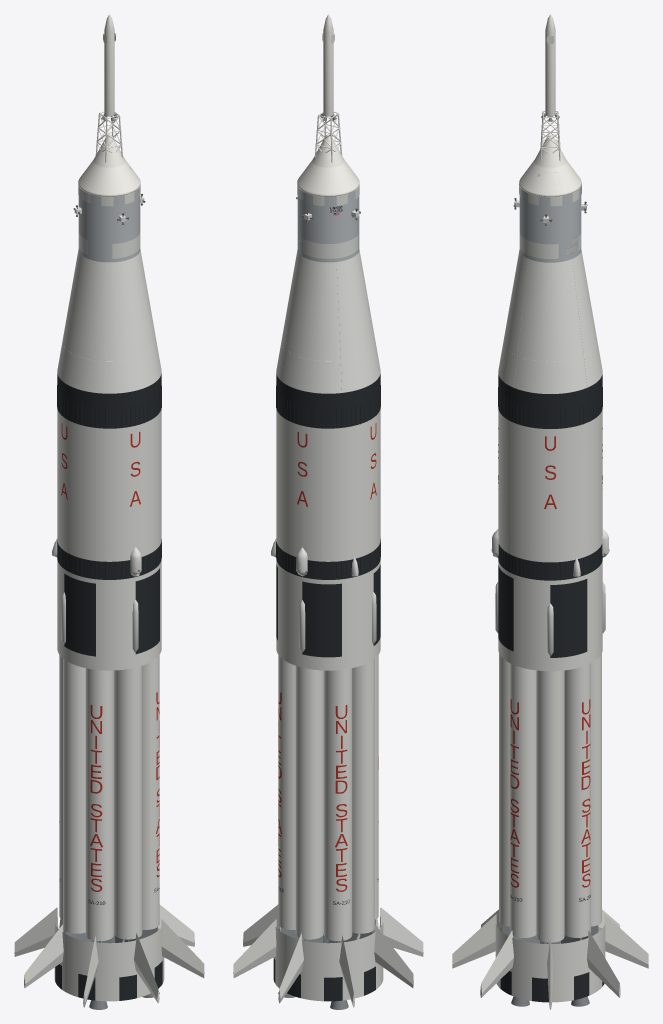
File: vehicle.glb
The picture shows the model from 3 angles, left to right: view 1: azimuth 30°, elevation 25°; view 2: azimuth 150°, elevation 25°; view 3: azimuth 270°, elevation 25°; orthographic projection.
Visible parts, largest first — view 1: SIVB_Skin_0, SIB_OuterTank_6, SIB_OuterTank_5, SIB_Fin_0, SIB_OuterTank_4, SLA_PetalSkin_3, SIB_OuterTank_7, Interstage_Skin_0, SIVB_Skin_1, Interstage_Skin_1, SLA_AftSkin_0, SM_BarrelRims (+12 smaller); view 2: SIVB_Skin_0, SIB_OuterTank_2, SIB_OuterTank_3, SIB_Fin_0, SIB_OuterTank_4, Interstage_Skin_0, SLA_PetalSkin_1, SIB_OuterTank_1, SIVB_Skin_1, SLA_AftSkin_0, Interstage_Skin_1, SLA_PetalSkin_2 (+12 smaller); view 3: SIVB_Skin_0, SIB_OuterTank_0, SIB_OuterTank_7, SIB_OuterTank_1, SIB_Fin_0, SLA_PetalSkin_0, Interstage_Skin_0, SIVB_Skin_1, Interstage_Skin_1, SLA_AftSkin_0, SM_BarrelRims, SIB_OuterTank_2 (+14 smaller).
Boxes of the visible parts, left/top/right/bottom form: SIVB_Skin_0: left=57, top=408, right=161, bottom=561; SIB_OuterTank_6: left=114, top=666, right=142, bottom=939; SIB_OuterTank_5: left=85, top=668, right=113, bottom=940; SIB_Fin_0: left=14, top=904, right=204, bottom=1007; SIB_OuterTank_4: left=63, top=659, right=85, bottom=933; SLA_PetalSkin_3: left=97, top=253, right=154, bottom=361; SIB_OuterTank_7: left=142, top=655, right=159, bottom=929; Interstage_Skin_0: left=57, top=560, right=161, bottom=661; SIVB_Skin_1: left=57, top=387, right=161, bottom=579; Interstage_Skin_1: left=64, top=568, right=159, bottom=656; SLA_AftSkin_0: left=57, top=341, right=161, bottom=393; SM_BarrelRims: left=78, top=185, right=140, bottom=262; SIVB_Skin_0: left=276, top=408, right=380, bottom=561; SIB_OuterTank_2: left=295, top=666, right=323, bottom=939; SIB_OuterTank_3: left=324, top=668, right=352, bottom=940; SIB_Fin_0: left=233, top=904, right=423, bottom=1007; SIB_OuterTank_4: left=352, top=659, right=374, bottom=933; Interstage_Skin_0: left=276, top=560, right=380, bottom=661; SLA_PetalSkin_1: left=283, top=253, right=340, bottom=361; SIB_OuterTank_1: left=278, top=655, right=295, bottom=929; SIVB_Skin_1: left=276, top=387, right=380, bottom=579; SLA_AftSkin_0: left=276, top=341, right=380, bottom=393; Interstage_Skin_1: left=276, top=564, right=380, bottom=657; SLA_PetalSkin_2: left=336, top=249, right=375, bottom=360; SIVB_Skin_0: left=498, top=409, right=602, bottom=562; SIB_OuterTank_0: left=536, top=670, right=564, bottom=942; SIB_OuterTank_7: left=510, top=663, right=536, bottom=937; SIB_OuterTank_1: left=564, top=663, right=590, bottom=937; SIB_Fin_0: left=480, top=909, right=648, bottom=1009; SLA_PetalSkin_0: left=517, top=259, right=583, bottom=361; Interstage_Skin_0: left=498, top=561, right=602, bottom=662; SIVB_Skin_1: left=498, top=387, right=602, bottom=580; Interstage_Skin_1: left=498, top=565, right=587, bottom=657; SLA_AftSkin_0: left=498, top=342, right=602, bottom=393; SM_BarrelRims: left=519, top=184, right=581, bottom=262; SIB_OuterTank_2: left=591, top=653, right=601, bottom=926.
Size of the model in its own units: 12.41 by 68.17 by 12.41.
Materials: 104 (3 with a texture image).
